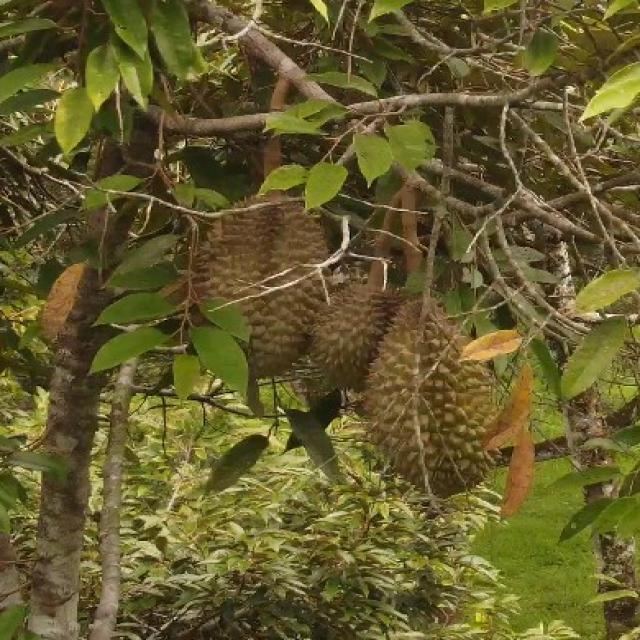mature: (360, 298, 509, 500), (194, 191, 333, 384), (301, 282, 413, 400)
